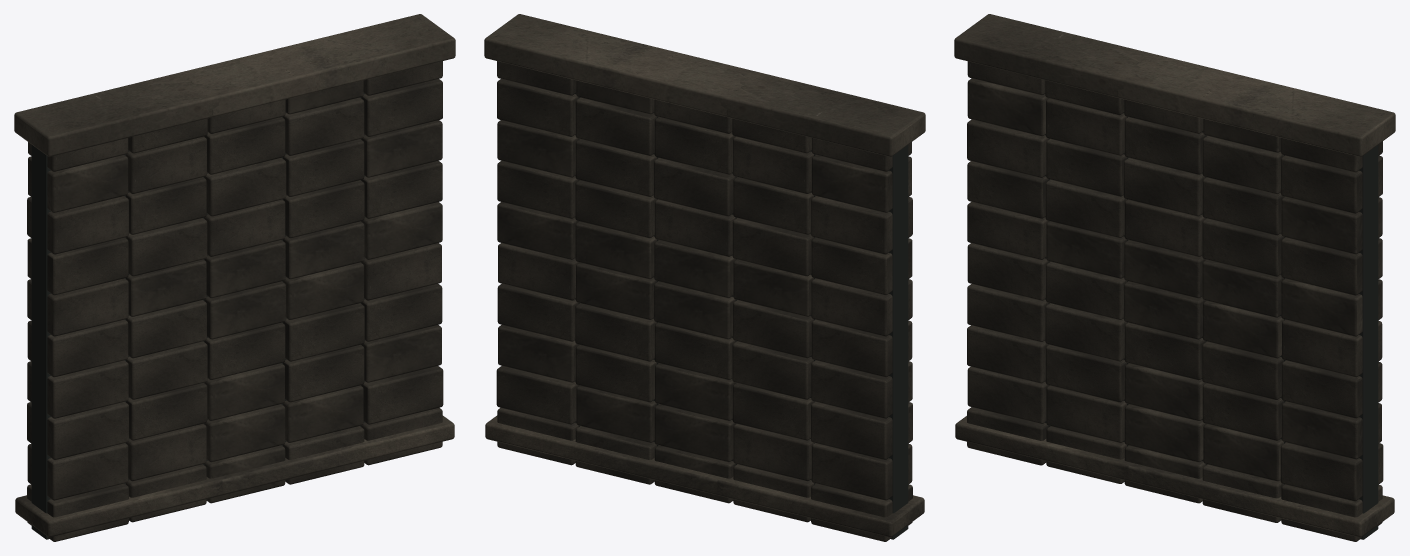
File: C01_ashlar_wall.gltf
3 views of the same model, side by side, from view 1: azimuth 30°, elevation 25°; view 2: azimuth 150°, elevation 25°; view 3: azimuth 330°, elevation 25° (orthographic).
Parts seen in each view (by area): view 1: Wall coping, Drip course, Mortar backing, Individual ashlar.035, Individual ashlar.015, Individual ashlar.010, Individual ashlar.025, Individual ashlar.030, Individual ashlar.020, Individual ashlar.040, Individual ashlar.005, Individual ashlar.009 (+41 smaller); view 2: Wall coping, Drip course, Mortar backing, Individual ashlar.035, Individual ashlar.015, Individual ashlar.010, Individual ashlar.025, Individual ashlar.030, Individual ashlar.020, Individual ashlar.040, Individual ashlar.005, Individual ashlar.009 (+41 smaller); view 3: Wall coping, Drip course, Mortar backing, Individual ashlar.009, Individual ashlar.044, Individual ashlar.034, Individual ashlar.019, Individual ashlar.029, Individual ashlar.039, Individual ashlar.024, Individual ashlar.014, Individual ashlar.037 (+41 smaller).
Part boxes in pixels (box(x1,y1,x2,y2)): Wall coping: box(14, 14, 455, 156); Drip course: box(15, 415, 454, 537); Mortar backing: box(31, 93, 364, 539); Individual ashlar.035: box(27, 196, 128, 254); Individual ashlar.015: box(27, 360, 128, 418); Individual ashlar.010: box(27, 402, 128, 459); Individual ashlar.025: box(27, 278, 128, 336); Individual ashlar.030: box(27, 237, 128, 295); Individual ashlar.020: box(27, 319, 128, 377); Individual ashlar.040: box(28, 155, 128, 212); Individual ashlar.005: box(27, 443, 128, 500); Individual ashlar.009: box(361, 366, 443, 424); Wall coping: box(484, 14, 925, 156); Drip course: box(485, 415, 924, 537); Mortar backing: box(575, 93, 908, 539); Individual ashlar.035: box(811, 196, 912, 254); Individual ashlar.015: box(811, 360, 912, 418); Individual ashlar.010: box(811, 402, 912, 459); Individual ashlar.025: box(811, 278, 912, 336); Individual ashlar.030: box(811, 237, 912, 295); Individual ashlar.020: box(811, 319, 912, 377); Individual ashlar.040: box(811, 155, 911, 212); Individual ashlar.005: box(811, 443, 912, 500); Individual ashlar.009: box(496, 366, 578, 424); Wall coping: box(954, 14, 1395, 156); Drip course: box(955, 416, 1394, 537); Mortar backing: box(1045, 112, 1378, 539); Individual ashlar.009: box(1280, 442, 1383, 501); Individual ashlar.044: box(1281, 155, 1382, 213); Individual ashlar.034: box(1281, 237, 1382, 295); Individual ashlar.019: box(1281, 360, 1382, 418); Individual ashlar.029: box(1281, 278, 1382, 336); Individual ashlar.039: box(1281, 197, 1382, 254); Individual ashlar.024: box(1282, 319, 1382, 377); Individual ashlar.014: box(1282, 401, 1381, 459); Individual ashlar.037: box(1123, 158, 1205, 216).
Size of the model in its own units: 4.16 by 4.01 by 0.62.
5 materials, 4 textured.
